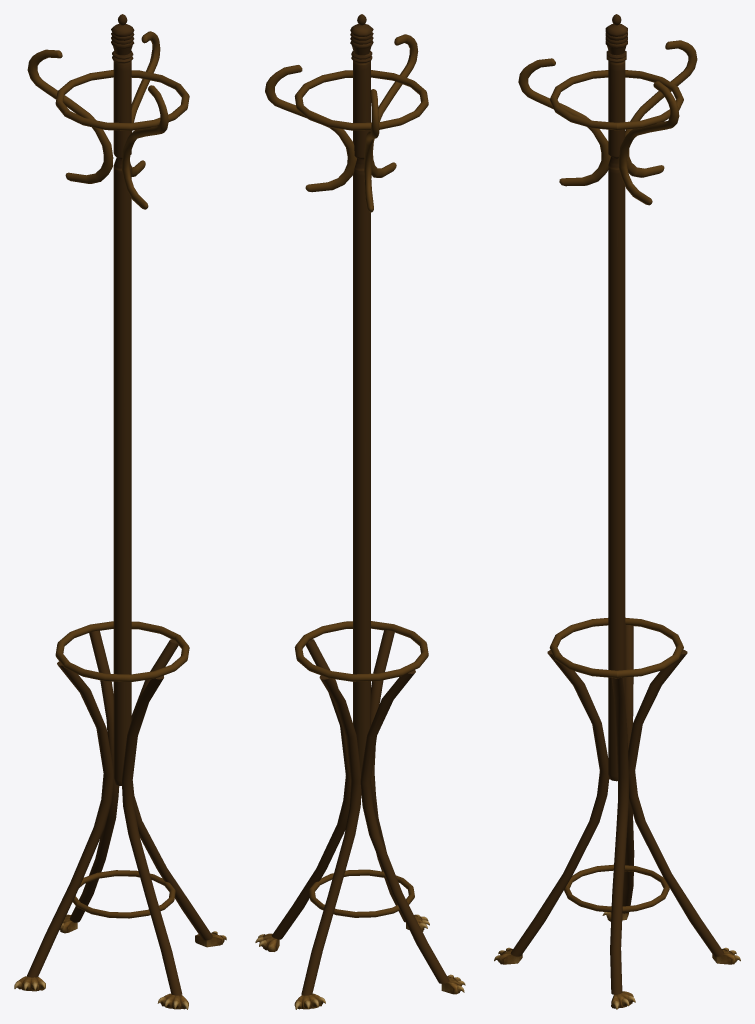
File: HatRack_Scaled.fbx
The picture shows the model from 3 angles, left to right: view 1: azimuth 30°, elevation 25°; view 2: azimuth 150°, elevation 25°; view 3: azimuth 270°, elevation 25°; orthographic projection.
Visible parts, largest first — view 1: HatRack_Pole, Leg3, Leg2, Leg4, HatRack_Circlular5, HatRack_Circlular7, Leg1, HatRack_SPole2, HatRack_SPole3, HatRack_Circlular8, HatRack_SPole4; view 2: HatRack_Pole, Leg4, Leg3, Leg1, HatRack_Circlular5, HatRack_Circlular7, HatRack_SPole4, Leg2, HatRack_Circlular8, HatRack_SPole3, HatRack_SPole2; view 3: HatRack_Pole, Leg1, Leg2, Leg4, HatRack_Circlular5, HatRack_Circlular7, HatRack_SPole3, Leg3, HatRack_SPole4, HatRack_SPole2, HatRack_Circlular8.
Part boxes in pixels (x1,y1,x2,y2): HatRack_Pole: [111, 14, 134, 785]; Leg3: [27, 661, 113, 977]; Leg2: [121, 675, 182, 995]; Leg4: [69, 630, 119, 922]; HatRack_Circlular5: [55, 621, 189, 682]; HatRack_Circlular7: [55, 70, 189, 130]; Leg1: [131, 639, 212, 940]; HatRack_SPole2: [27, 49, 113, 183]; HatRack_SPole3: [122, 85, 168, 209]; HatRack_Circlular8: [72, 870, 175, 918]; HatRack_SPole4: [129, 31, 160, 176]; HatRack_Pole: [350, 14, 373, 771]; Leg4: [301, 675, 361, 995]; Leg3: [360, 670, 449, 983]; Leg1: [271, 639, 350, 939]; HatRack_Circlular5: [294, 621, 428, 681]; HatRack_Circlular7: [294, 70, 428, 130]; HatRack_SPole4: [265, 65, 356, 192]; Leg2: [370, 630, 405, 922]; HatRack_Circlular8: [309, 869, 414, 917]; HatRack_SPole3: [371, 34, 418, 177]; HatRack_SPole2: [364, 89, 379, 212]; HatRack_Pole: [605, 14, 627, 781]; Leg1: [610, 677, 628, 994]; Leg2: [510, 650, 609, 956]; Leg4: [628, 650, 724, 956]; HatRack_Circlular5: [549, 617, 683, 677]; HatRack_Circlular7: [549, 70, 683, 130]; HatRack_SPole3: [518, 58, 610, 186]; Leg3: [622, 624, 634, 913]; HatRack_SPole4: [618, 81, 679, 205]; HatRack_SPole2: [625, 40, 697, 177]; HatRack_Circlular8: [564, 864, 669, 912].
Size of the model in its own units: 42.22 by 184 by 43.38.
